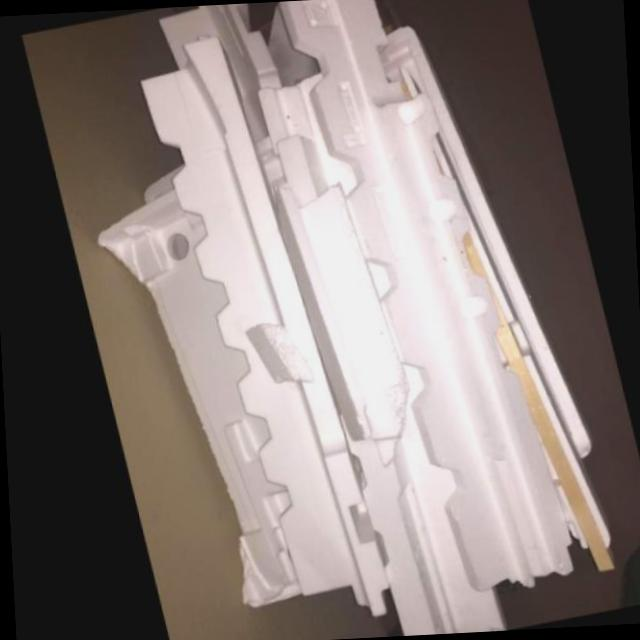xop: (280, 0, 566, 593), (141, 37, 381, 619), (274, 134, 406, 442), (241, 322, 310, 383)
